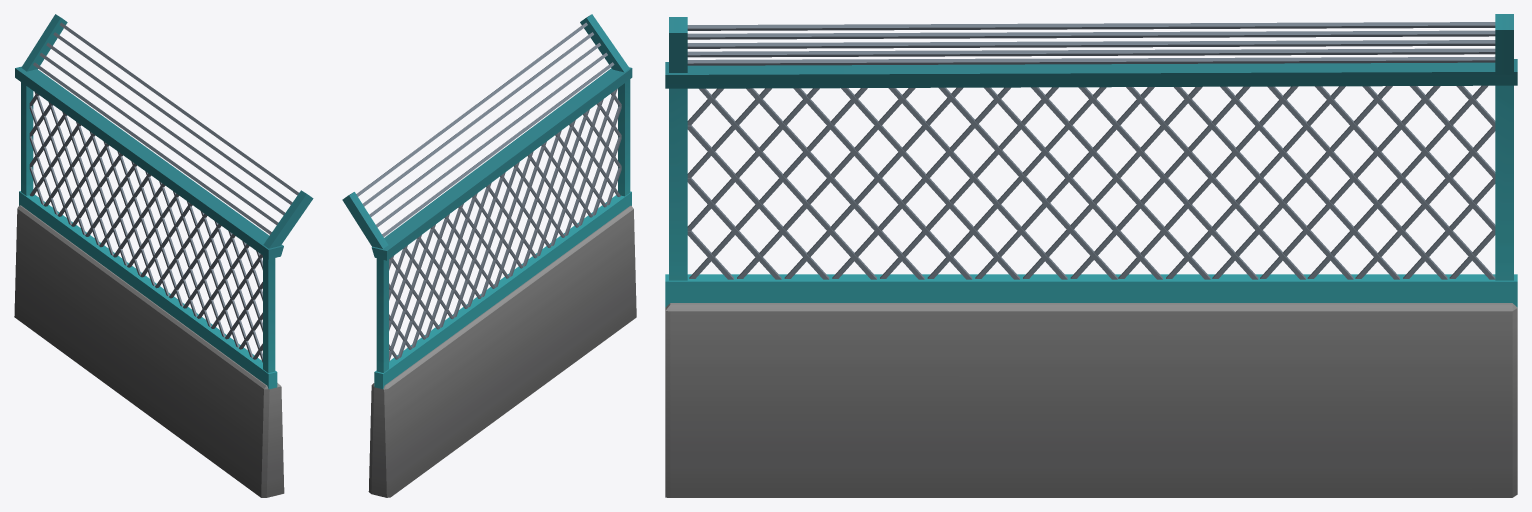
File: Fence_6_1_D.fbx
3 views of the same model, side by side, from view 1: azimuth 30°, elevation 25°; view 2: azimuth 150°, elevation 25°; view 3: azimuth 270°, elevation 25° (orthographic). The views are drawn at different scales.
Parts seen in each view (by area): view 1: Fence_6_1_D; view 2: Fence_6_1_D; view 3: Fence_6_1_D.
Boxes of the visible parts, x1=… form: Fence_6_1_D: x1=14, y1=14, x2=313, y2=497; Fence_6_1_D: x1=342, y1=14, x2=636, y2=497; Fence_6_1_D: x1=665, y1=14, x2=1517, y2=497.
Bounding box in the file's own units: 72.15 × 388 × 600.
